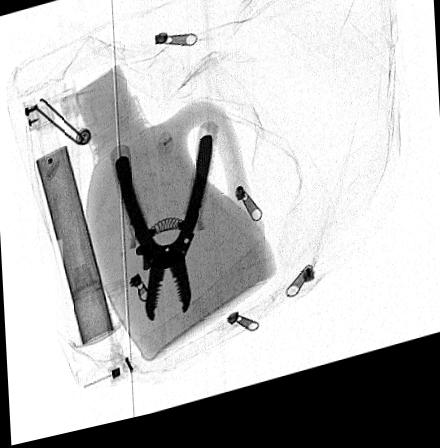Pliers: (111, 143, 213, 328)
